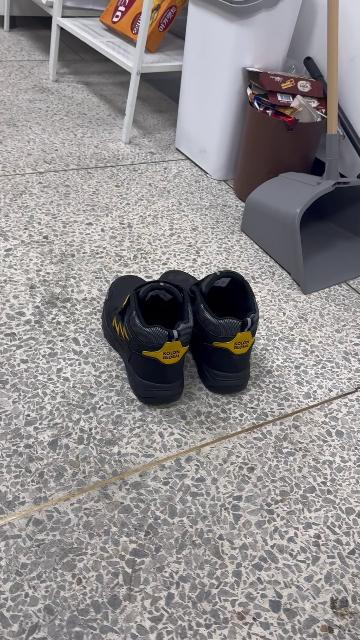shoe_worn: (158, 263, 261, 393), (102, 271, 193, 406)
